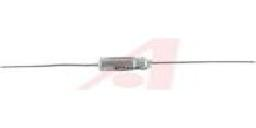Electrolytic-capacitor: (1, 51, 256, 81)
